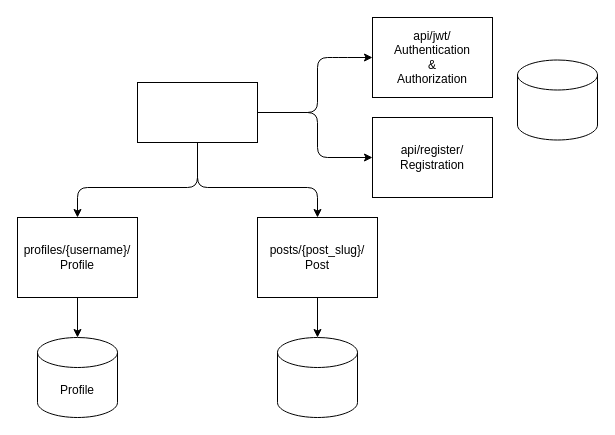
Image size: 615x435. Some labels were removed from this diagram. The shapes that lost their labels are listed below. From the top down, each one's centre as x and y in pixels, then its label:
At (x=197, y=112): "API".
At (x=557, y=99): "User (django auth)".
At (x=317, y=377): "Post".
